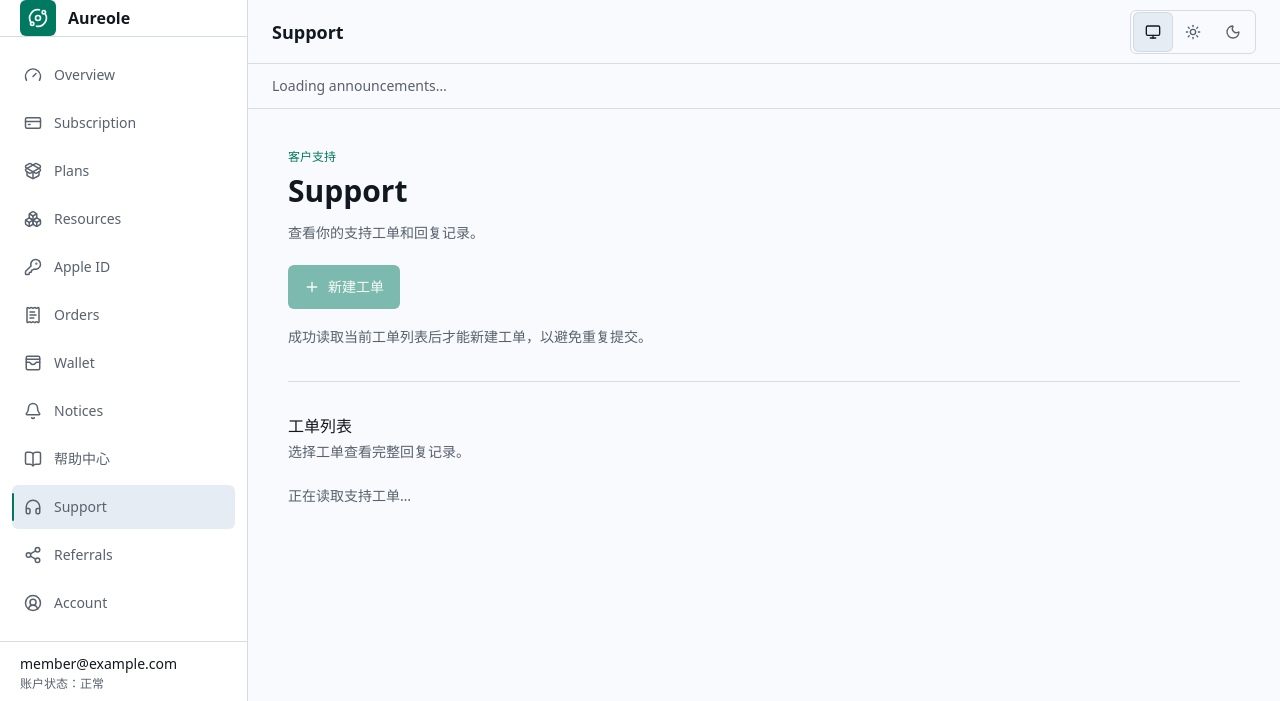
Scenario: Create Support Ticket form › keeps Create disabled during initial List loading and opens it after success
Click the button "新建工单": (344, 287) left=288, top=265, right=400, bottom=309
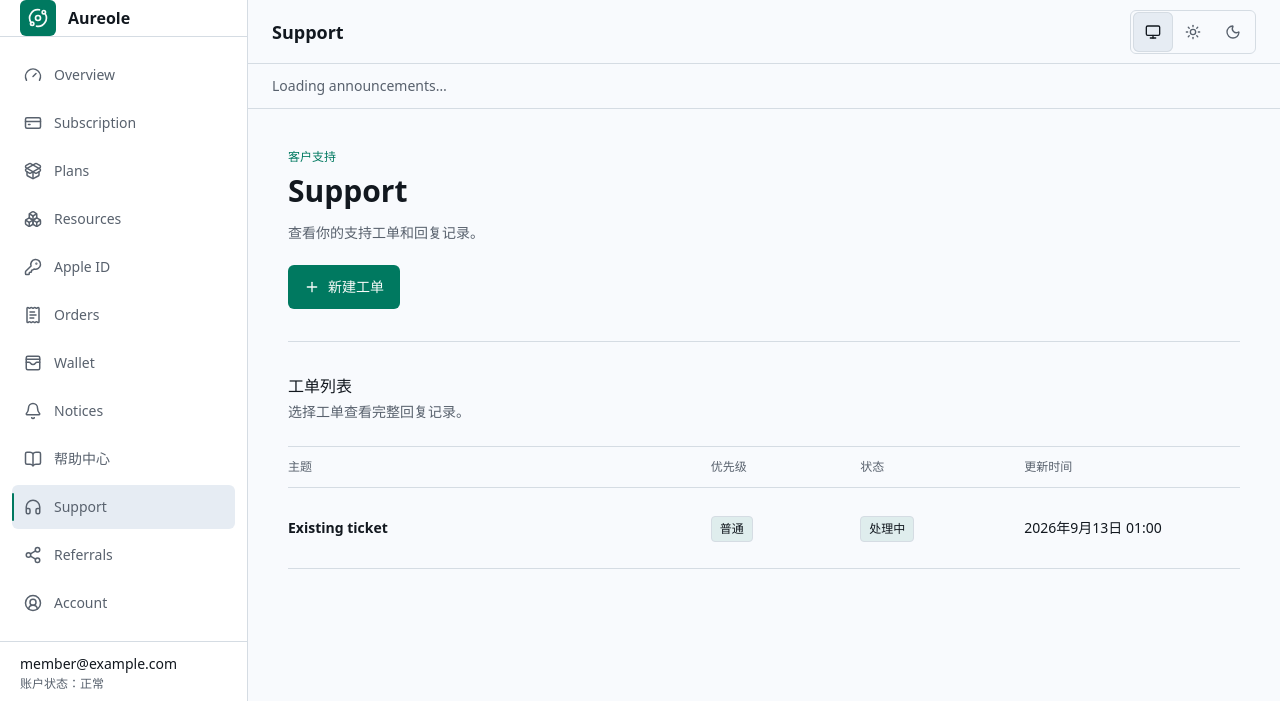
Expected: the button "新建工单" is enabled, left=288, top=265, right=400, bottom=309
